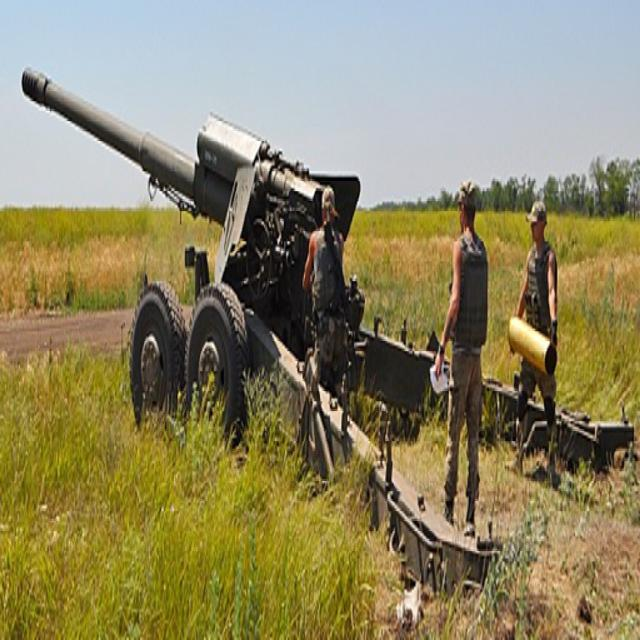ART: (17, 62, 634, 604)
